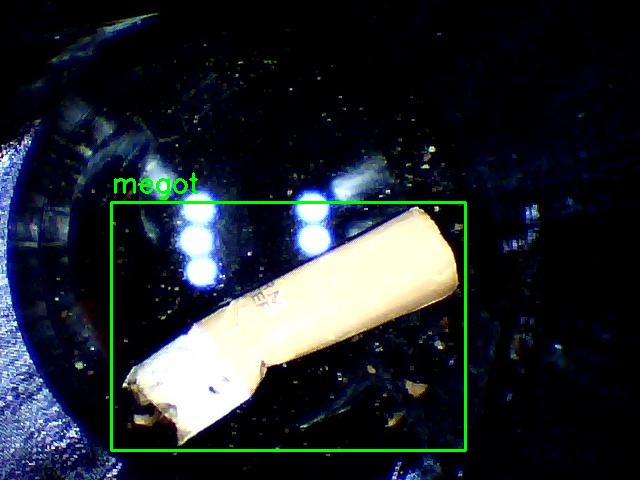megot: (111, 202, 465, 450)
